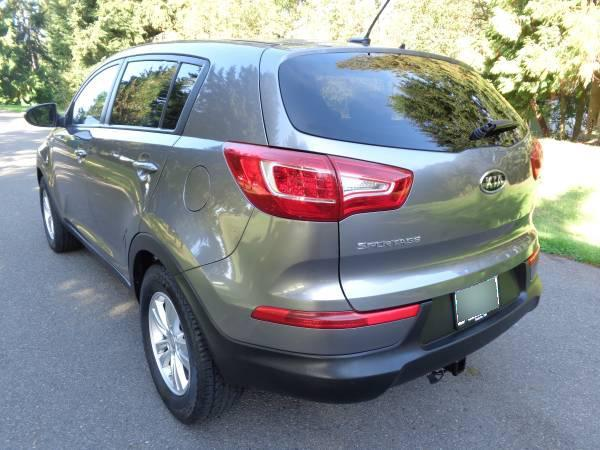Front_Left_Door: (41, 129, 99, 250)
Front_Left_Window: (52, 63, 125, 131)
Left_Taillight: (225, 143, 418, 222)
Rear_Fender: (178, 205, 544, 403), (142, 60, 274, 272)
Rear_Left_Door: (88, 132, 183, 300)
Rear_Left_Window: (103, 53, 209, 135)
Rear_Windshield: (281, 51, 531, 158)
Roof: (90, 42, 473, 145)
Tailgate: (272, 133, 542, 317)
Wheel: (139, 269, 245, 424), (39, 183, 59, 249)
